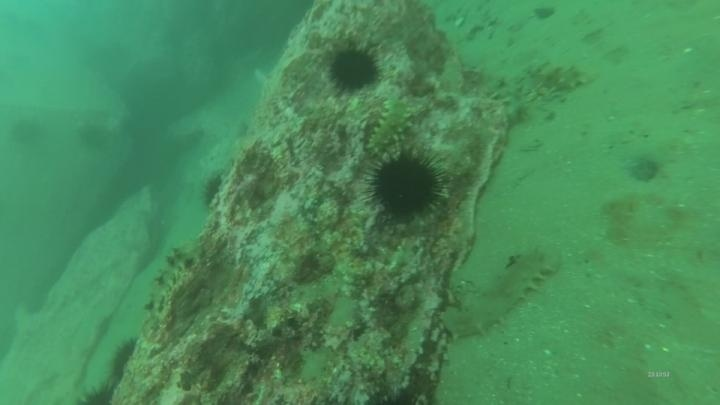echinus: (362, 146, 448, 225), (325, 43, 383, 94), (105, 335, 142, 385), (75, 120, 113, 154), (75, 381, 113, 405), (202, 173, 227, 209)
holothurian: (438, 243, 561, 342), (144, 236, 206, 317), (364, 93, 416, 159), (524, 58, 599, 96), (600, 192, 641, 247)
